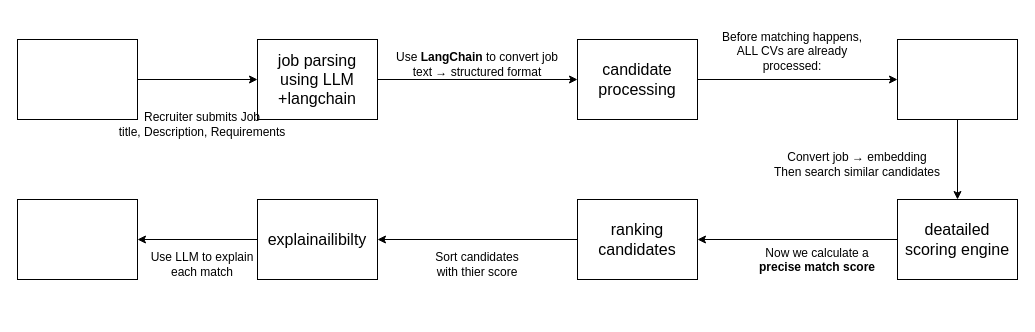
Image size: 1035x332. Some labels were removed from this diagram. The centre of each missing label's shape, as x and y in pixels:
"Embedding matcching using FAIIS| cosine sim" belongs at point 957,79.
"final output" belongs at point 77,239.
"job posting" belongs at point 77,79.
